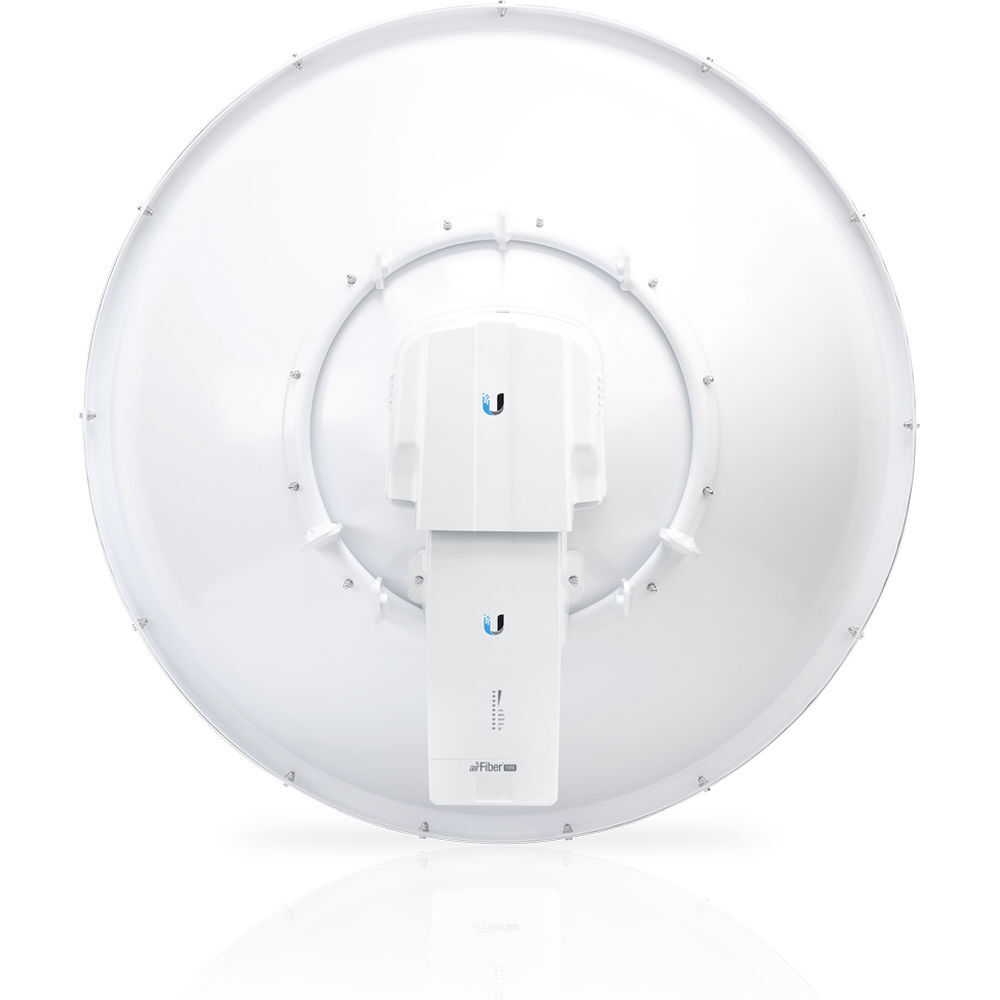ba: (57, 21, 938, 892)
